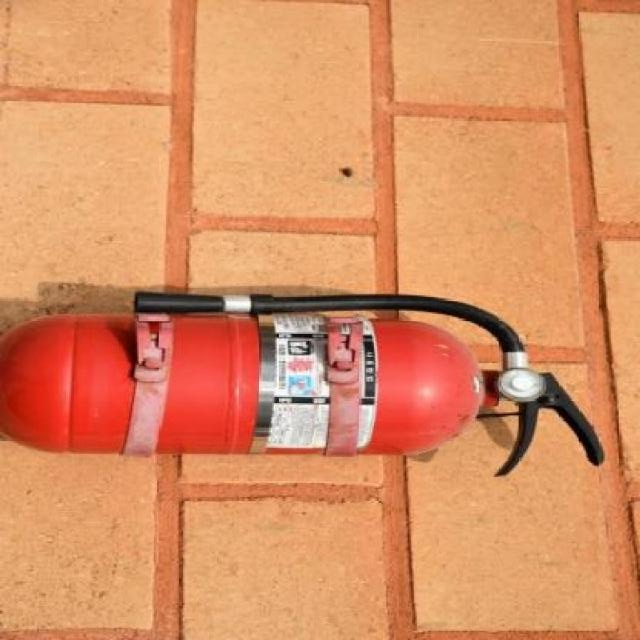fire extinguisher: (0, 290, 606, 476)
